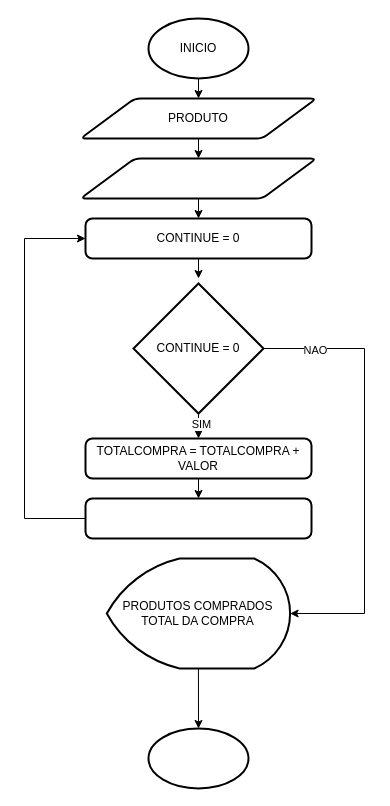
Image size: 390x806. Some labels were removed from this diagram. The shapes that lost their labels are listed below. From the top down, each one's centre as x and y in pixels, then its label:
At pixel 198 178: "VALOR DO PRODUTO".
At pixel 198 518: "PRODCOMPRADOS = PRODCOMPRADOS + PRODUTO +".
At pixel 198 758: "FIM".
